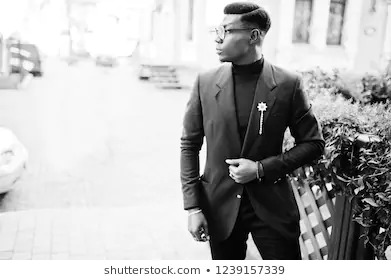F_M_suit jacket: (176, 56, 328, 243)
